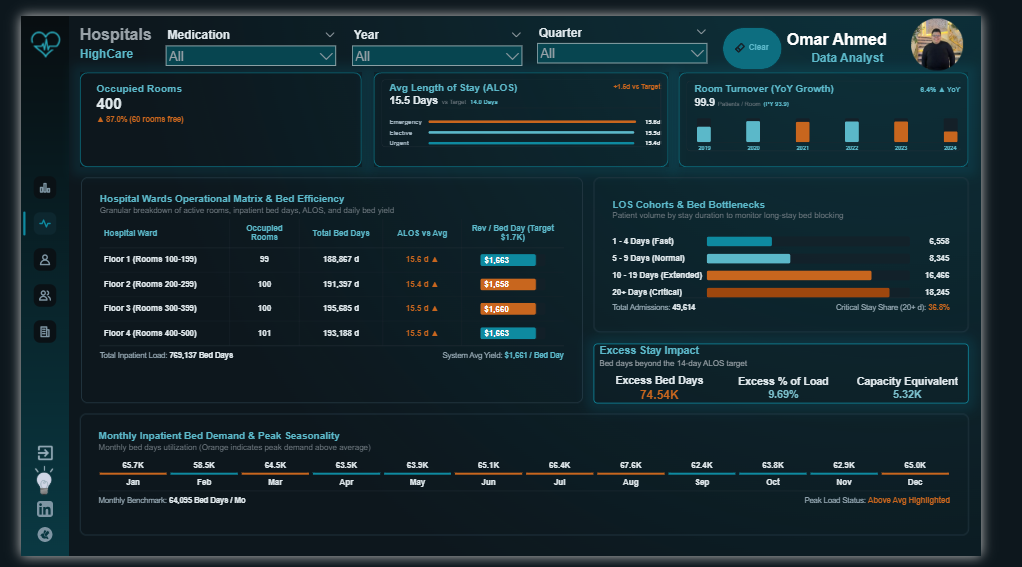

The dashboard page shown, as its layout file describes it:
{"tool":"powerbi","page":{"name":"Hospitals","canvas":[1920,1080],"ordinal":2},"visuals":[{"type":"shape","box":[704,112,590,190],"z":0},{"type":"htmlContent443BE3AD55E043BF878BED274D3A6855","title":"KPI card 2","fields":{"content":["Dax_Measures.HTML_Card_ALOS"]},"box":[706,112,590,188],"z":1000},{"type":"shape","box":[1316,112.2,580,190],"z":2000},{"type":"shape","box":[118,112,564,190],"z":3000},{"type":"htmlContent443BE3AD55E043BF878BED274D3A6855","title":"KPI card 1","fields":{"content":["Dax_Measures.HTML_Card_Hospitals"]},"box":[120,115,562.5,185],"z":4000},{"type":"htmlContent443BE3AD55E043BF878BED274D3A6855","title":"KPI card 3","fields":{"content":["Dax_Measures.HTML_Card_Room_Turnover"]},"box":[1316,114,580,186],"z":5000},{"type":"htmlContent443BE3AD55E043BF878BED274D3A6855","fields":{"content":["Dax_Measures.HTML_Matrix_Hospital_Wards"]},"box":[120,322,1004,452],"z":6000},{"type":"htmlContent443BE3AD55E043BF878BED274D3A6855","title":"Chart 5","fields":{"content":["Dax_Measures.HTML_Chart_LOS_Cohorts"]},"box":[1146,322,750,310],"z":7000},{"type":"textbox","title":"Page title","box":[118,20,182,41],"z":8000},{"type":"textbox","title":"Subtitle","box":[118,58,167,41],"z":9000},{"type":"actionButton","title":"Go to Overview","box":[18,313,60,60],"z":10000},{"type":"actionButton","title":"Go to Hospitals","box":[18,385,60,60],"z":11000},{"type":"actionButton","title":"Go to Patients","box":[18,457,60,60],"z":12000},{"type":"actionButton","title":"Go to Doctors","box":[18,529,60,60],"z":13000},{"type":"actionButton","title":"Go to Insurance Companies","box":[18,601,60,60],"z":14000},{"type":"actionButton","title":"LinkedIn","box":[32,970,32,32],"z":15000},{"type":"actionButton","title":"Website","box":[32,1021,32,32],"z":16000},{"type":"image","title":"Logo","box":[14,26,68,64],"z":17000},{"type":"group","id":"g1","title":"Group 1","box":[1526,6,394,104],"z":18000},{"type":"htmlContent443BE3AD55E043BF878BED274D3A6855","title":"Chart 5","fields":{"content":["Dax_Measures.HTML_Chart_Monthly_Seasonality"]},"box":[118,794,1778,244],"z":19000},{"type":"image","box":[1746,6,174,104],"z":20000,"group":"g1"},{"type":"cardVisual","title":"Excess Stay Impact","fields":{"Data":["Dax_Measures.Excess Bed Days","Dax_Measures.Excess % of Load","Dax_Measures.Capacity Equivalent"]},"box":[1146,654,750,120],"z":20000},{"type":"textbox","box":[1526,30,206.5,78.1],"z":21000,"group":"g1"},{"type":"actionButton","box":[1400,20,125,90],"z":25001},{"type":"slicer","fields":{"Values":["Dim_Medications.Medication"]},"box":[285,25,350,87.5],"z":25002},{"type":"slicer","fields":{"Values":["Dim_Date.Year"]},"box":[656.7,25,350,90],"z":25003},{"type":"slicer","fields":{"Values":["Dim_Date.Quarter"]},"box":[1028.3,20,350,90],"z":25004},{"type":"image","box":[10,837.5,77.5,72.5],"z":25005},{"type":"image","box":[18.1,892.2,59.7,72.4],"z":25006}]}

Visuals, with their boxes in screenshot pixels (x1, y1, x2, y2), scaled from the page's 1920x1080 canvas onto the 1022x567 screenshot:
shape: [375,59,689,159]
"KPI card 2" htmlContent443BE3AD55E043BF878BED274D3A6855: [376,59,690,158]
shape: [700,59,1009,159]
shape: [63,59,363,159]
"KPI card 1" htmlContent443BE3AD55E043BF878BED274D3A6855: [64,60,363,158]
"KPI card 3" htmlContent443BE3AD55E043BF878BED274D3A6855: [700,60,1009,158]
htmlContent443BE3AD55E043BF878BED274D3A6855 - Dax_Measures.HTML_Matrix_Hospital_Wards: [64,169,598,406]
"Chart 5" htmlContent443BE3AD55E043BF878BED274D3A6855: [610,169,1009,332]
"Page title" textbox: [63,10,160,32]
"Subtitle" textbox: [63,30,152,52]
"Go to Overview" actionButton: [10,164,42,196]
"Go to Hospitals" actionButton: [10,202,42,234]
"Go to Patients" actionButton: [10,240,42,271]
"Go to Doctors" actionButton: [10,278,42,309]
"Go to Insurance Companies" actionButton: [10,316,42,347]
"LinkedIn" actionButton: [17,509,34,526]
"Website" actionButton: [17,536,34,553]
"Logo" image: [7,14,44,47]
"Group 1" group: [812,3,1021,58]
"Chart 5" htmlContent443BE3AD55E043BF878BED274D3A6855: [63,417,1009,545]
image: [929,3,1021,58]
"Excess Stay Impact" cardVisual: [610,343,1009,406]
textbox: [812,16,922,57]
actionButton: [745,10,812,58]
slicer - Dim_Medications.Medication: [152,13,338,59]
slicer - Dim_Date.Year: [350,13,536,60]
slicer - Dim_Date.Quarter: [547,10,734,58]
image: [5,440,47,478]
image: [10,468,41,506]
